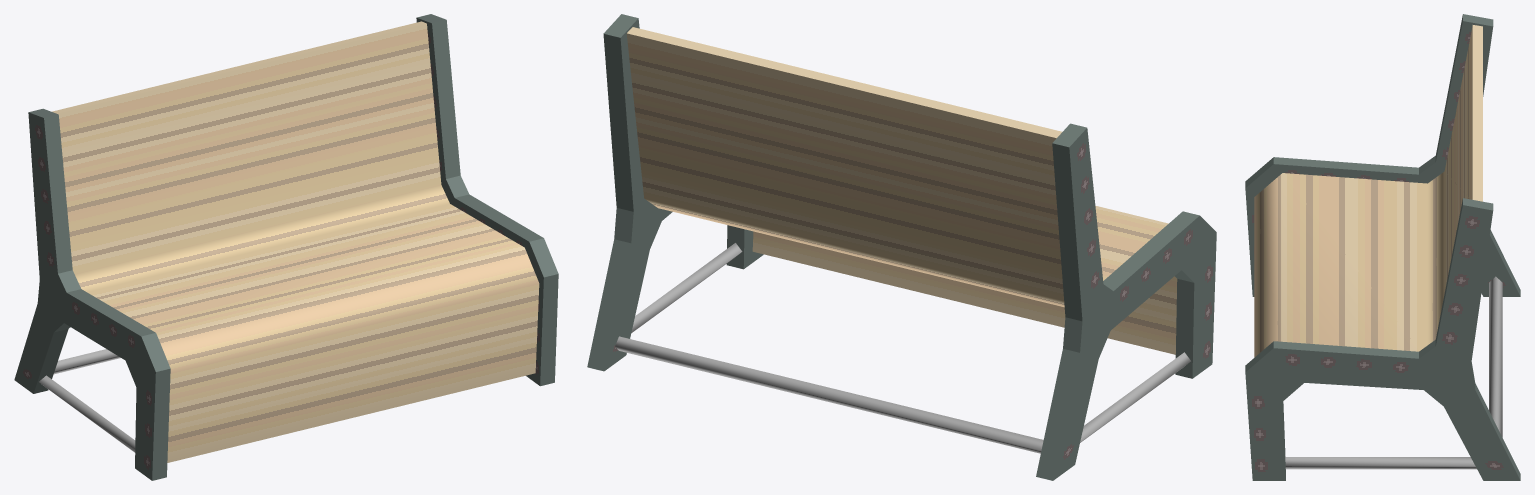
The model's file is 001d_Wooden_Bench.glb.
3 views of the same model, side by side, from view 1: azimuth 30°, elevation 25°; view 2: azimuth 150°, elevation 25°; view 3: azimuth 270°, elevation 25° (orthographic). The views are drawn at different scales.
Visible parts, largest first — view 1: part_0; view 2: part_0; view 3: part_0.
Boxes of the visible parts, left/top/right/bottom form: part_0: left=14, top=14, right=558, bottom=480; part_0: left=587, top=14, right=1216, bottom=480; part_0: left=1245, top=14, right=1520, bottom=480.
Size of the model in its own units: 1.09 by 0.7338 by 0.6636.
Materials: 1 (1 with a texture image).
